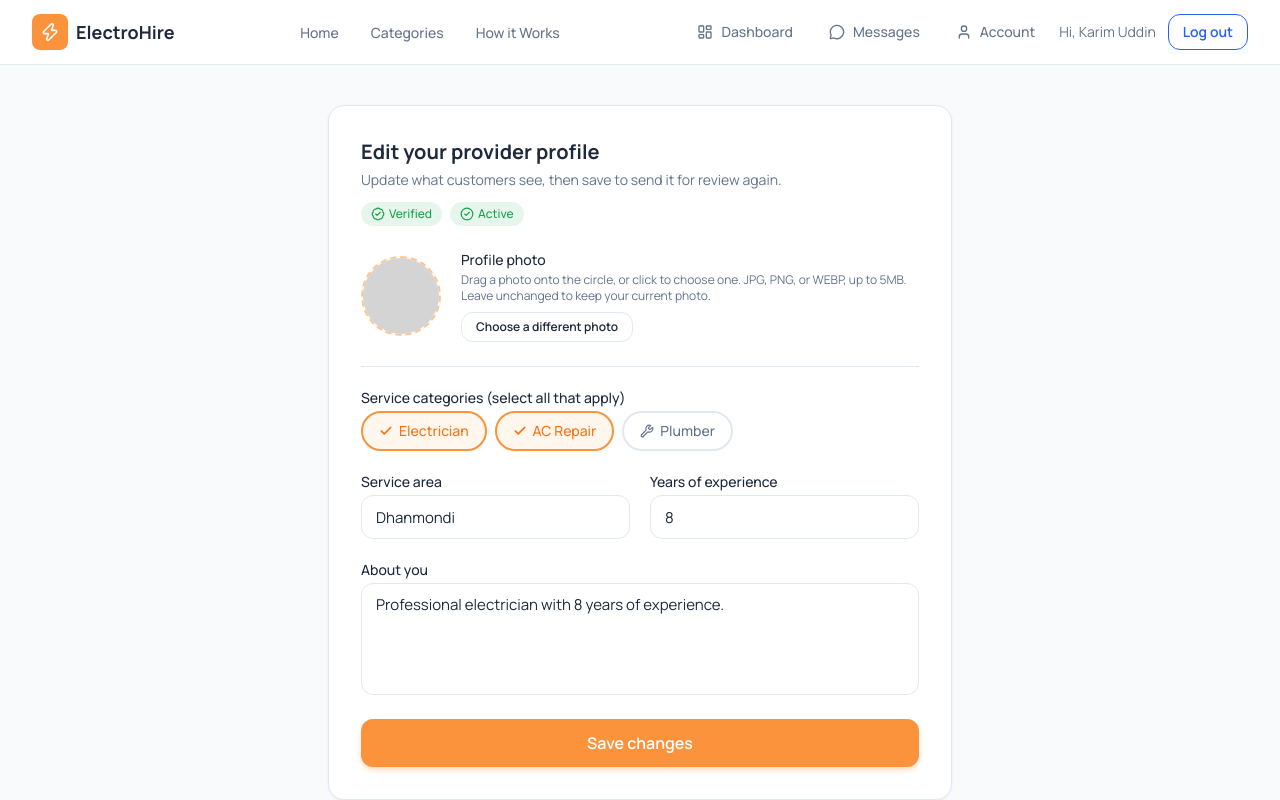
Test: ProviderProfileEditPage › blocks submit and shows validation errors when a required field is cleared
The image size is (1280, 800).
Clear the field showing "Dhanmondi" at coordinates (496, 517), box [361,495,630,539]
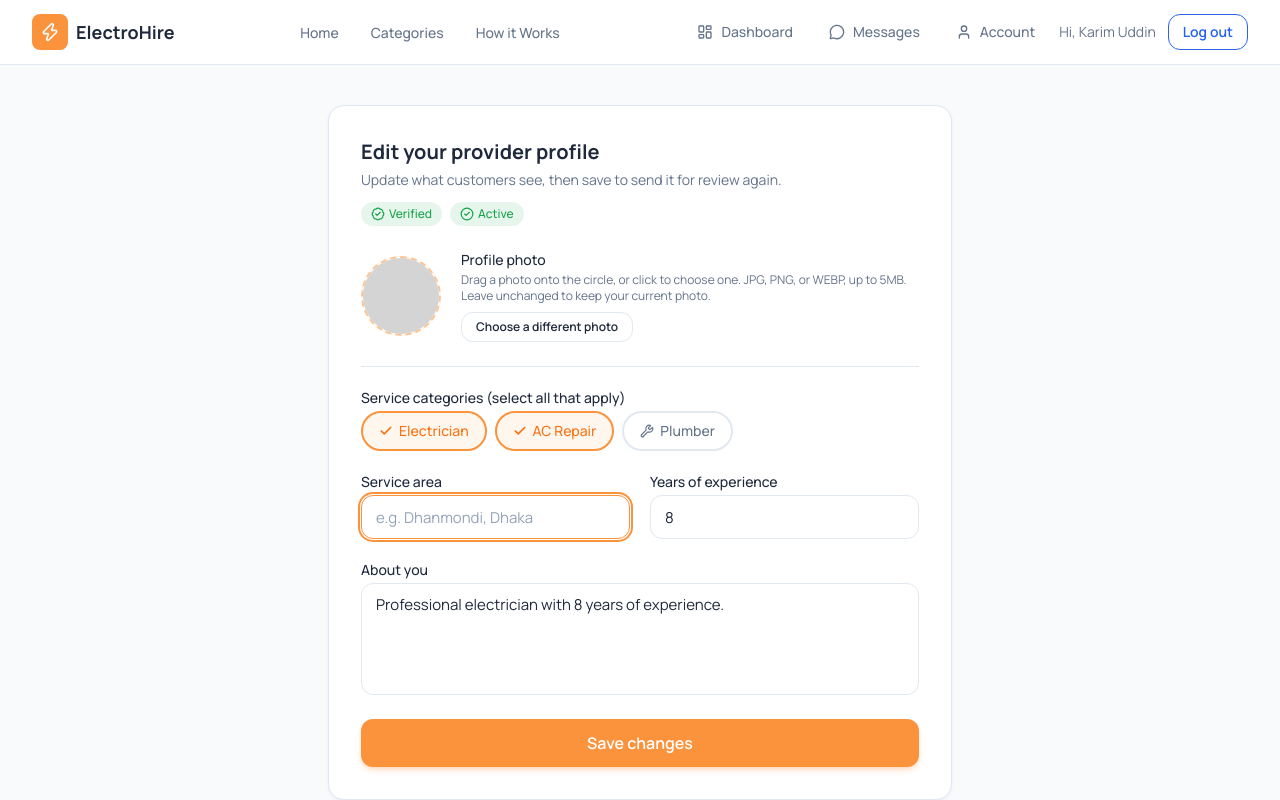
Click the button "Save changes" at coordinates (640, 743), box [361,719,919,767]
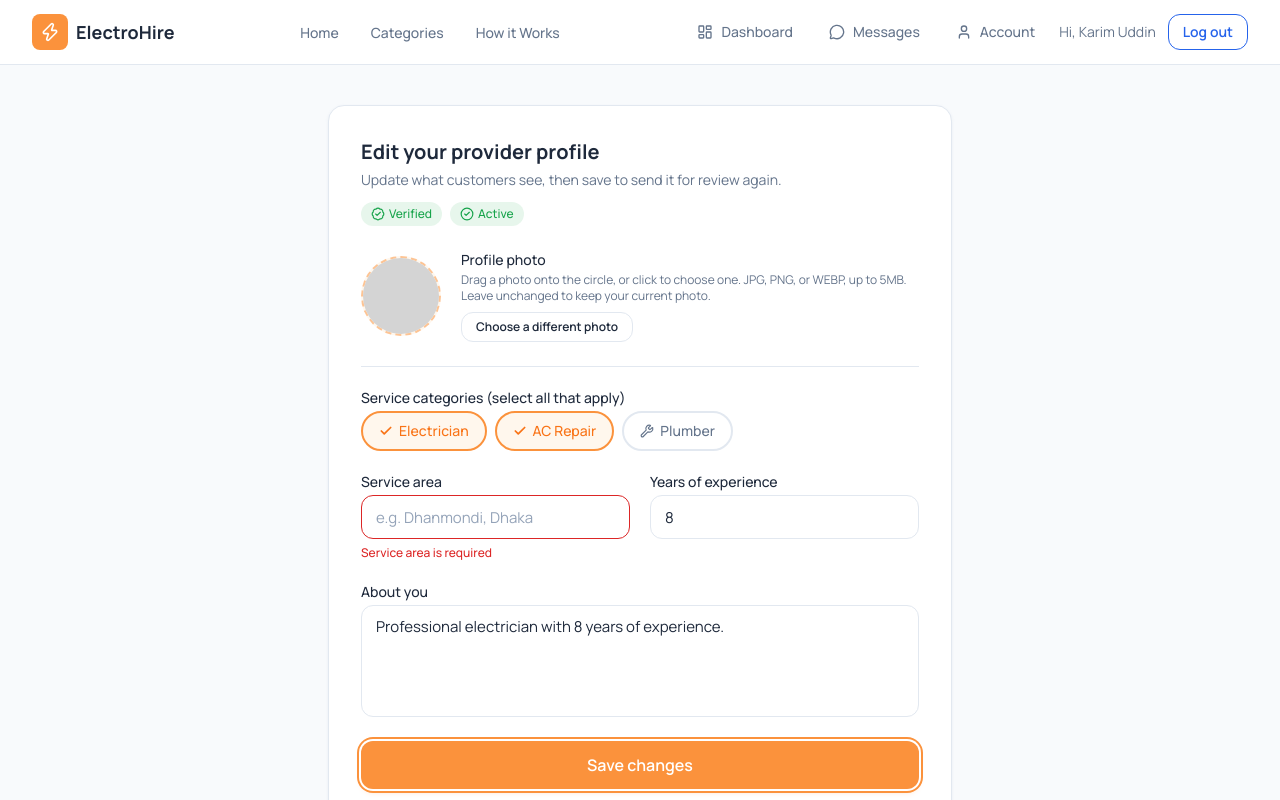
expect the text "Service area is required" is shown: met, box [361,544,492,561]
